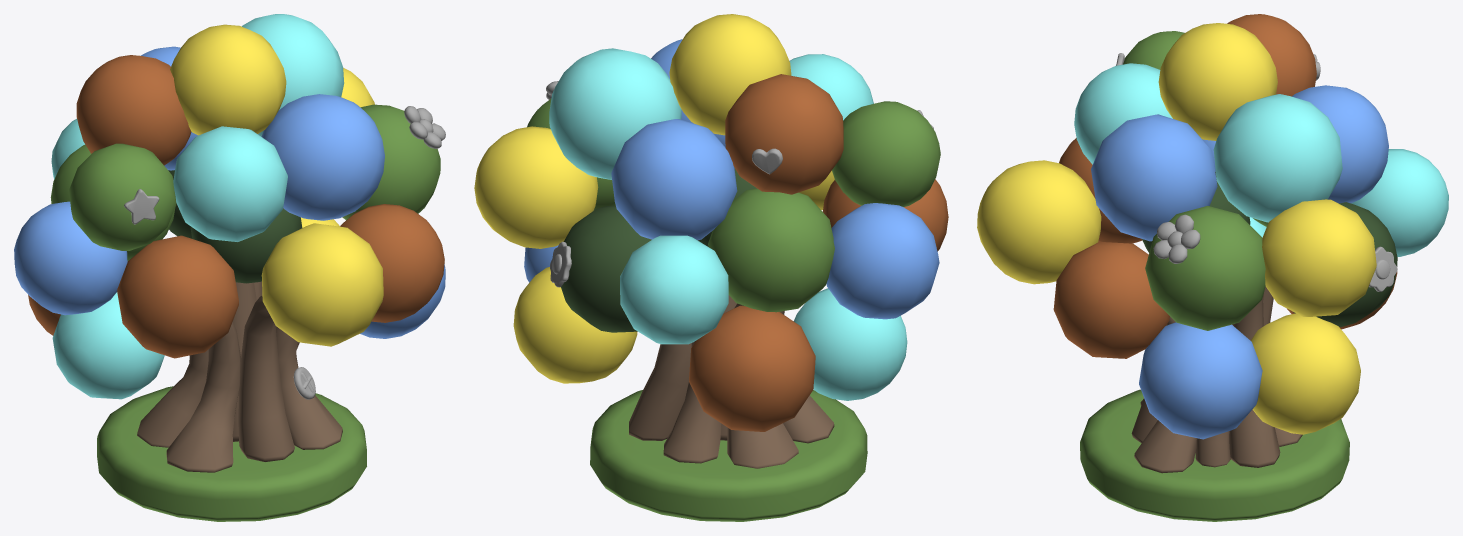
Rendered from TreeGreen.fbx.
The picture shows the model from 3 angles, left to right: view 1: azimuth 30°, elevation 25°; view 2: azimuth 150°, elevation 25°; view 3: azimuth 270°, elevation 25°; orthographic projection. The views are drawn at different scales.
Visible parts, largest first — view 1: M_Tree, S_Tree, D_Seahorse_15, D_BedRoom_48, D_MotorBike_24; view 2: M_Tree, S_Tree, D_MotorBike_28, D_MotorBike_19; view 3: M_Tree, S_Tree, D_Seahorse_15, D_MotorBike_28.
Part boxes in pixels (<box>): M_Tree: <box>14,14,445,399</box>; S_Tree: <box>97,281,366,521</box>; D_Seahorse_15: <box>404,106,445,148</box>; D_BedRoom_48: <box>124,189,159,224</box>; D_MotorBike_24: <box>293,367,315,399</box>; M_Tree: <box>474,14,948,431</box>; S_Tree: <box>590,295,867,521</box>; D_MotorBike_28: <box>550,241,571,287</box>; D_MotorBike_19: <box>752,148,782,174</box>; M_Tree: <box>977,14,1448,439</box>; S_Tree: <box>1080,287,1349,521</box>; D_Seahorse_15: <box>1153,214,1200,263</box>; D_MotorBike_28: <box>1369,246,1397,291</box>.
Bounding box in the file's own units: 495 × 513 × 502.
